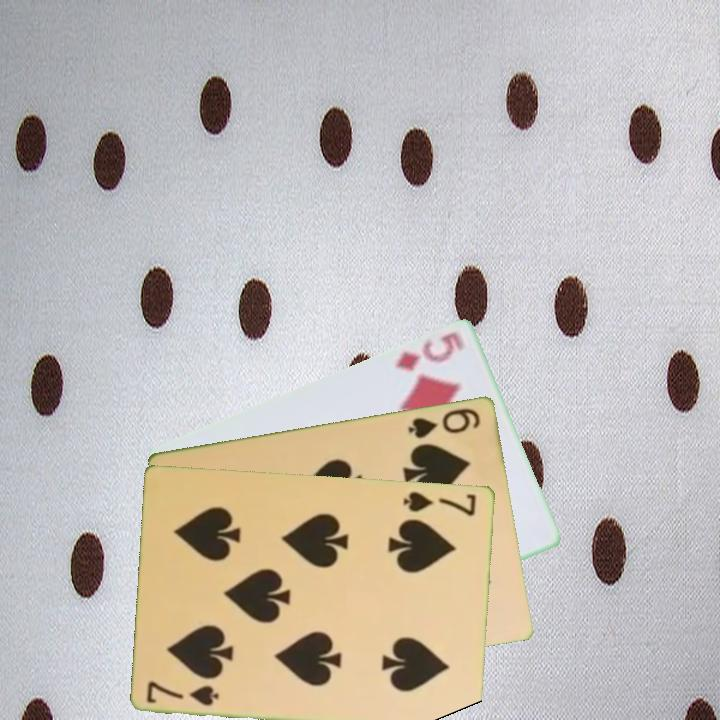5d: (391, 328, 468, 373)
6s: (404, 404, 484, 441)
7s: (400, 487, 479, 518), (143, 677, 222, 708)
